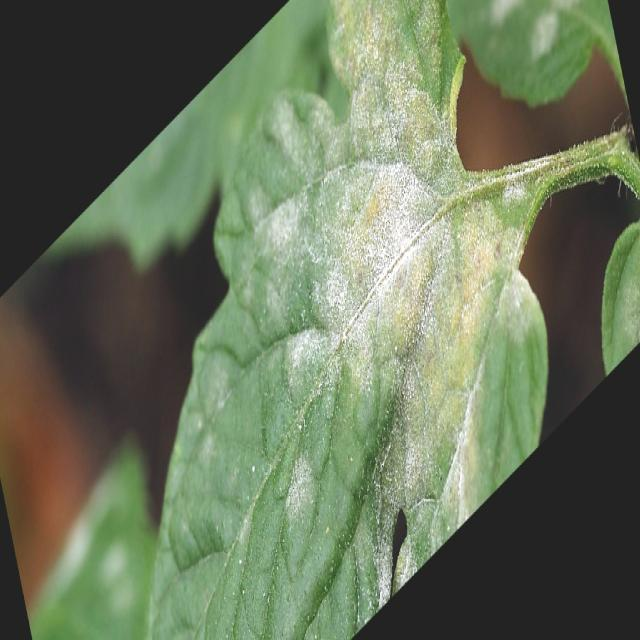Powdery Mildew: (143, 0, 638, 636)
